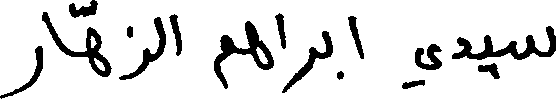ا: (41, 9, 62, 69), (346, 13, 363, 58), (167, 12, 181, 56), (275, 10, 283, 52)
ب: (321, 29, 344, 81)
د: (451, 35, 470, 59)
ر: (0, 12, 42, 97), (294, 45, 315, 84)
ز: (119, 23, 147, 80)
س: (509, 24, 555, 60)
ل: (154, 15, 164, 61)
م: (212, 32, 233, 89)
ه: (67, 22, 109, 77), (243, 18, 273, 70)
ي: (401, 42, 441, 89), (478, 33, 497, 79)
